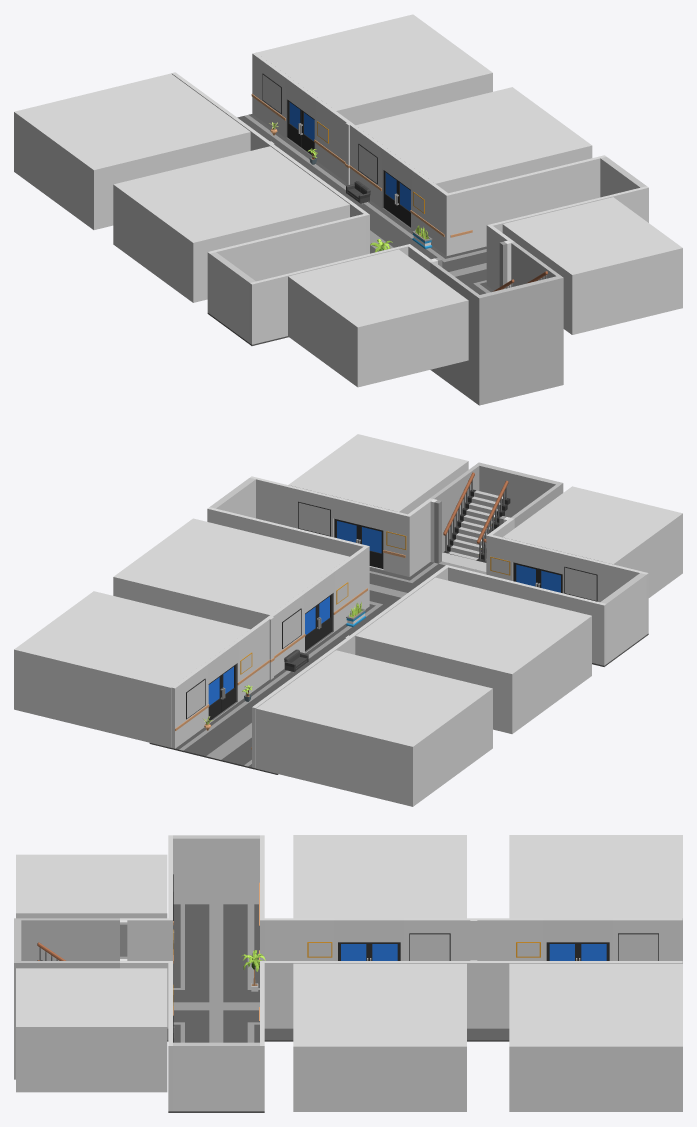
Rendered from floor.glb.
3 renders of one model, top to bottom at view 1: azimuth 30°, elevation 25°; view 2: azimuth 150°, elevation 25°; view 3: azimuth 270°, elevation 25°, orthographic. The views are drawn at different scales.
Parts seen in each view (by area): view 1: ground, studio_box_3, studio_box_4, studio_box_6, studio_box_5, studio_box_1, studio_box_2, SM_Prop_Couch_02; view 2: ground, studio_box_3, studio_box_1, studio_box_4, studio_box_2, studio_box_6, studio_box_5, ChamferBox04, post_border, SM_Prop_Couch_02, post_6, post_5 (+2 smaller); view 3: ground, studio_box_1, studio_box_2, studio_box_5, studio_box_3, studio_box_4, studio_box_6, post_3, post_4, post_border, studio_door_right_3, studio_door_left_3 (+2 smaller).
Part boxes in pixels (bbox=[...]): ground: bbox=[171, 52, 648, 405]; studio_box_3: bbox=[14, 73, 250, 229]; studio_box_4: bbox=[113, 146, 349, 302]; studio_box_6: bbox=[288, 249, 468, 387]; studio_box_5: bbox=[502, 197, 682, 334]; studio_box_1: bbox=[256, 14, 492, 125]; studio_box_2: bbox=[356, 87, 592, 193]; SM_Prop_Couch_02: bbox=[269, 122, 432, 252]; ground: bbox=[149, 462, 648, 774]; studio_box_3: bbox=[256, 650, 492, 806]; studio_box_1: bbox=[14, 591, 250, 747]; studio_box_4: bbox=[355, 577, 591, 733]; studio_box_2: bbox=[113, 518, 349, 629]; studio_box_6: bbox=[503, 486, 682, 597]; studio_box_5: bbox=[288, 434, 468, 514]; ChamferBox04: bbox=[442, 472, 510, 571]; post_border: bbox=[186, 501, 597, 719]; SM_Prop_Couch_02: bbox=[202, 602, 365, 730]; post_6: bbox=[565, 567, 596, 600]; post_5: bbox=[298, 502, 329, 535]; ground: bbox=[14, 835, 682, 1112]; studio_box_1: bbox=[509, 963, 682, 1111]; studio_box_2: bbox=[293, 963, 466, 1111]; studio_box_5: bbox=[16, 968, 167, 1092]; studio_box_3: bbox=[509, 835, 682, 963]; studio_box_4: bbox=[293, 835, 466, 918]; studio_box_6: bbox=[16, 854, 167, 918]; post_3: bbox=[618, 934, 658, 960]; post_4: bbox=[410, 934, 449, 960]; post_border: bbox=[173, 874, 658, 1042]; studio_door_right_3: bbox=[546, 942, 578, 960]; studio_door_left_3: bbox=[578, 942, 609, 960].
Size of the model in its own units: 31.16 by 8 by 41.62.
2 materials, 2 textured.
